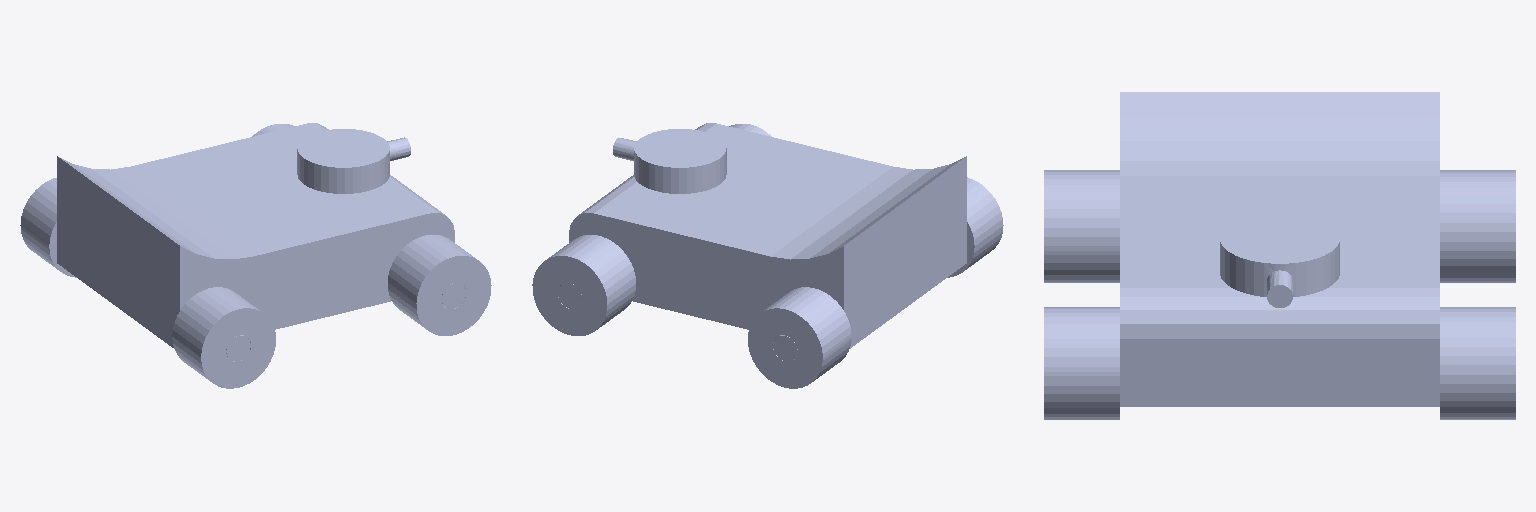
robot.urdf — twowheel:
<?xml version="1.0" encoding="utf-8"?>
<!-- This URDF was automatically created by SolidWorks to URDF Exporter! Originally created by [author] ([email redacted]) 
     Commit Version: 1.5.1-0-g916b5db  Build Version: 1.5.7152.31018
     For more information, please see http://wiki.ros.org/sw_urdf_exporter -->
<robot
  name="twowheel">
  <link
    name="base_link">
    <inertial>
      <origin
        xyz="-0.00189704808770979 -2.77555756156289E-17 0.000243241596412187"
        rpy="0 0 0" />
      <mass
        value="029241.3148419216" />
      <inertia
        ixx="0000214.467025690103"
        ixy="3893746.50523059E-20"
        ixz="9200795.97527627E-06"
        iyy="0000330.913240446304"
        iyz="-3591856.93194801E-21"
        izz="0000497.502081292989" />
    </inertial>
    <visual>
      <origin
        xyz="0 0 0"
        rpy="0 0 0" />
      <geometry>
        <mesh
          filename="package://twowheel/meshes/base_link.STL" />
      </geometry>
      <material
        name="">
        <color
          rgba="0.792156862745098 0.819607843137255 0.933333333333333 1" />
      </material>
    </visual>
    <collision>
      <origin
        xyz="0 0 0"
        rpy="0 0 0" />
      <geometry>
        <mesh
          filename="package://twowheel/meshes/base_link.STL" />
      </geometry>
    </collision>
  </link>
  <link
    name="lwheel_front_link">
    <inertial>
      <origin
        xyz="2.77555756156289E-17 0 3.46944695195361E-18"
        rpy="0 0 0" />
      <mass
        value="001256.63706143592" />
      <inertia
        ixx="1204277.18387609E-06"
        ixy="9926167.35063632E-24"
        ixz="6900064.94304649E-23"
        iyy="1570796.3267949E-06"
        iyz="-7940933.88050907E-23"
        izz="1204277.18387609E-06" />
    </inertial>
    <visual>
      <origin
        xyz="0 0 0"
        rpy="0 0 0" />
      <geometry>
        <mesh
          filename="package://twowheel/meshes/lwheel_front_link.STL" />
      </geometry>
      <material
        name="">
        <color
          rgba="0.792156862745098 0.819607843137255 0.933333333333333 1" />
      </material>
    </visual>
    <collision>
      <origin
        xyz="0 0 0"
        rpy="0 0 0" />
      <geometry>
        <mesh
          filename="package://twowheel/meshes/lwheel_front_link.STL" />
      </geometry>
    </collision>
  </link>
  <joint
    name="lwheel_front_joint"
    type="continuous">
    <origin
      xyz="0.043 0.0525 -0.008"
      rpy="0 0 0" />
    <parent
      link="base_link" />
    <child
      link="lwheel_front_link" />
    <axis
      xyz="0 1 0" />
    <dynamics
      damping="0.7" />
  </joint>
  <link
    name="rwheel_front_link">
    <inertial>
      <origin
        xyz="0 1.38777878078145E-17 0"
        rpy="0 0 0" />
      <mass
        value="001256.63706143592" />
      <inertia
        ixx="1204277.18387609E-06"
        ixy="2600255.43384173E-23"
        ixz="6486043.81353428E-23"
        iyy="1570796.3267949E-06"
        iyz="1543315.65336478E-23"
        izz="1204277.18387609E-06" />
    </inertial>
    <visual>
      <origin
        xyz="0 0 0"
        rpy="0 0 0" />
      <geometry>
        <mesh
          filename="package://twowheel/meshes/rwheel_front_link.STL" />
      </geometry>
      <material
        name="">
        <color
          rgba="0.792156862745098 0.819607843137255 0.933333333333333 1" />
      </material>
    </visual>
    <collision>
      <origin
        xyz="0 0 0"
        rpy="0 0 0" />
      <geometry>
        <mesh
          filename="package://twowheel/meshes/rwheel_front_link.STL" />
      </geometry>
    </collision>
  </link>
  <joint
    name="rwheel_front_joint"
    type="continuous">
    <origin
      xyz="0.043 -0.0525 -0.008"
      rpy="0 0 0" />
    <parent
      link="base_link" />
    <child
      link="rwheel_front_link" />
    <axis
      xyz="0 1 0" />
    <dynamics
      damping="0.7" />
  </joint>
  <link
    name="lwheel_back_link">
    <inertial>
      <origin
        xyz="6.93889390390723E-18 0 -1.73472347597681E-18"
        rpy="0 0 0" />
      <mass
        value="001256.63706143592" />
      <inertia
        ixx="1204277.18387609E-06"
        ixy="-3529303.94689291E-23"
        ixz="1499759.78266181E-40"
        iyy="1570796.3267949E-06"
        iyz="-4553270.7001614E-39"
        izz="1204277.18387609E-06" />
    </inertial>
    <visual>
      <origin
        xyz="0 0 0"
        rpy="0 0 0" />
      <geometry>
        <mesh
          filename="package://twowheel/meshes/lwheel_back_link.STL" />
      </geometry>
      <material
        name="">
        <color
          rgba="0.792156862745098 0.819607843137255 0.933333333333333 1" />
      </material>
    </visual>
    <collision>
      <origin
        xyz="0 0 0"
        rpy="0 0 0" />
      <geometry>
        <mesh
          filename="package://twowheel/meshes/lwheel_back_link.STL" />
      </geometry>
    </collision>
  </link>
  <joint
    name="lwheel_back_joint"
    type="continuous">
    <origin
      xyz="-0.043 0.0525 -0.008"
      rpy="0 0 0" />
    <parent
      link="base_link" />
    <child
      link="lwheel_back_link" />
    <axis
      xyz="0 1 0" />
    <dynamics
      damping="0.7" />
  </joint>
  <link
    name="rwheel_back_link">
    <inertial>
      <origin
        xyz="-1.38777878078145E-17 1.38777878078145E-17 0"
        rpy="0 0 0" />
      <mass
        value="001256.63706143592" />
      <inertia
        ixx="1204277.18387609E-06"
        ixy="1767333.78549152E-39"
        ixz="-1499759.78266188E-40"
        iyy="1570796.3267949E-06"
        iyz="4553270.7001614E-39"
        izz="1204277.18387609E-06" />
    </inertial>
    <visual>
      <origin
        xyz="0 0 0"
        rpy="0 0 0" />
      <geometry>
        <mesh
          filename="package://twowheel/meshes/rwheel_back_link.STL" />
      </geometry>
      <material
        name="">
        <color
          rgba="0.792156862745098 0.819607843137255 0.933333333333333 1" />
      </material>
    </visual>
    <collision>
      <origin
        xyz="0 0 0"
        rpy="0 0 0" />
      <geometry>
        <mesh
          filename="package://twowheel/meshes/rwheel_back_link.STL" />
      </geometry>
    </collision>
  </link>
  <joint
    name="rwheel_back_joint"
    type="continuous">
    <origin
      xyz="-0.043 -0.0525 -0.008"
      rpy="0 0 0" />
    <parent
      link="base_link" />
    <child
      link="rwheel_back_link" />
    <axis
      xyz="0 1 0" />
    <dynamics
      damping="0.7" />
  </joint>
  <link
    name="camera_Link">
    <inertial>
      <origin
        xyz="0.000737693445204357 3.24407345431155E-09 -0.00116644766754696"
        rpy="0 0 0" />
      <mass
        value="000962.102997648522" />
      <inertia
        ixx="6922246.68983282E-07"
        ixy="-3504703.43196234E-13"
        ixz="-5438839.57292803E-09"
        iyy="8334672.43629266E-07"
        iyz="-1150783.32662436E-14"
        izz="1202980.56447629E-06" />
    </inertial>
    <visual>
      <origin
        xyz="0 0 0"
        rpy="0 0 0" />
      <geometry>
        <mesh
          filename="package://twowheel/meshes/camera_Link.STL" />
      </geometry>
      <material
        name="">
        <color
          rgba="0.792156862745098 0.819607843137255 0.933333333333333 1" />
      </material>
    </visual>
    <collision>
      <origin
        xyz="0 0 0"
        rpy="0 0 0" />
      <geometry>
        <mesh
          filename="package://twowheel/meshes/camera_Link.STL" />
      </geometry>
    </collision>
  </link>
  <joint
    name="camera_joint"
    type="fixed">
    <origin
      xyz="0.0349999999999999 0 0.02"
      rpy="0 0 0" />
    <parent
      link="base_link" />
    <child
      link="camera_Link" />
    <axis
      xyz="0 0 0" />
  </joint>

  <gazebo
     reference="base_link">
    <mu1>100</mu1>
    <mu2>100</mu2>
    <material>Gazebo/Orange</material>
  </gazebo>
  <gazebo
     reference="lwheel_front_link">
    <mu1>100</mu1>
    <mu2>100</mu2>
    <material>Gazebo/Black</material>
  </gazebo>
  <gazebo
     reference="rwheel_front_link">
    <mu1>100</mu1>
    <mu2>100</mu2>
    <material>Gazebo/Black</material>
  </gazebo>
  <gazebo
     reference="lwheel_back_link">
    <mu1>100</mu1>
    <mu2>100</mu2>
    <material>Gazebo/Black</material>
  </gazebo>
  <gazebo
     reference="rwheel_back_link">
    <mu1>100</mu1>
    <mu2>100</mu2>
    <material>Gazebo/Black</material>
  </gazebo>

  <gazebo
     reference="camera_Link">
    <material>Gazebo/Black</material>
    <sensor type="camera" name="camera">
      <update_rate>30.0</update_rate>
      <camera name="head">
	<pose>0 0 1 0 0.785 0</pose>
        <horizontal_fov>0.95993108859</horizontal_fov><!--80*PI/180 0.95993108859 1.3962634-->
        <image>
          <width>320</width>
          <height>240</height>
          <format>R8G8B8</format>
        </image>
        <clip>
          <near>0.02</near>
          <far>300</far>
        </clip>
        <noise>
          <type>gaussian</type>
          <mean>0.0</mean>
          <stddev>0.007</stddev>
        </noise>
      </camera>
      <plugin name="camera_controller" filename="libgazebo_ros_camera.so">
	<robotNamespace>/twowheel</robotNamespace>
        <alwaysOn>true</alwaysOn>
        <updateRate>0.0</updateRate>
        <cameraName>/camera</cameraName>
        <imageTopicName>image_raw</imageTopicName>
        <cameraInfoTopicName>camera_info</cameraInfoTopicName>
        <frameName>camera_Link</frameName>
        <hackBaseline>0.07</hackBaseline>
        <distortionK1>0.0</distortionK1>
        <distortionK2>0.0</distortionK2>
        <distortionK3>0.0</distortionK3>
        <distortionT1>0.0</distortionT1>
        <distortionT2>0.0</distortionT2>
      </plugin>
    </sensor>
  </gazebo>

  <gazebo>
    <plugin name="gazebo_ros_control" filename="libgazebo_ros_control.so">
      <robotNamespace>/twowheel</robotNamespace>
      <robotSimType>gazebo_ros_control/DefaultRobotHWSim</robotSimType>
      <legacyModeNS>true</legacyModeNS>
    </plugin>
  </gazebo>

  <transmission name="tran1">
    <type>transmission_interface/SimpleTransmission</type>
    <joint name="lwheel_front_joint">
      <hardwareInterface>hardware_interface/EffortJointInterface</hardwareInterface>
    </joint>
    <actuator name="motor1">
      <hardwareInterface>hardware_interface/EffortJointInterface</hardwareInterface>
      <mechanicalReduction>1</mechanicalReduction>
    </actuator>
  </transmission>

  <transmission name="tran2">
    <type>transmission_interface/SimpleTransmission</type>
    <joint name="rwheel_front_joint">
      <hardwareInterface>hardware_interface/EffortJointInterface</hardwareInterface>
    </joint>
    <actuator name="motor2">
      <hardwareInterface>hardware_interface/EffortJointInterface</hardwareInterface>
      <mechanicalReduction>1</mechanicalReduction>
    </actuator>
  </transmission>

  <transmission name="tran3">
    <type>transmission_interface/SimpleTransmission</type>
    <joint name="lwheel_back_joint">
      <hardwareInterface>hardware_interface/EffortJointInterface</hardwareInterface>
    </joint>
    <actuator name="motor3">
      <hardwareInterface>hardware_interface/EffortJointInterface</hardwareInterface>
      <mechanicalReduction>1</mechanicalReduction>
    </actuator>
  </transmission>

  <transmission name="tran4">
    <type>transmission_interface/SimpleTransmission</type>
    <joint name="rwheel_back_joint">
      <hardwareInterface>hardware_interface/EffortJointInterface</hardwareInterface>
    </joint>
    <actuator name="motor4">
      <hardwareInterface>hardware_interface/EffortJointInterface</hardwareInterface>
      <mechanicalReduction>1</mechanicalReduction>
    </actuator>
  </transmission>

</robot>

--- Render facts (derived) ---
3 views of the same robot in one strip: view 1: azimuth 30°, elevation 25°; view 2: azimuth 150°, elevation 25°; view 3: azimuth 270°, elevation 25° (orthographic).
Model twowheel with 6 links and 5 joints (4 continuous, 1 fixed), rooted at base_link, posed all joints at 0.
Visible links, largest first — view 1: base_link, rwheel_front_link, rwheel_back_link, camera_Link, lwheel_back_link; view 2: base_link, lwheel_front_link, lwheel_back_link, camera_Link, rwheel_back_link; view 3: base_link, camera_Link, lwheel_front_link, rwheel_front_link, lwheel_back_link, rwheel_back_link.
Boxes of the visible links, <box> form: base_link: <box>57,123,465,361</box>; rwheel_front_link: <box>388,235,491,335</box>; rwheel_back_link: <box>172,287,275,388</box>; camera_Link: <box>297,129,410,193</box>; lwheel_back_link: <box>20,178,76,277</box>; base_link: <box>558,123,966,361</box>; lwheel_front_link: <box>532,235,635,335</box>; lwheel_back_link: <box>748,287,851,388</box>; camera_Link: <box>613,129,726,193</box>; rwheel_back_link: <box>948,177,1003,277</box>; base_link: <box>1120,92,1439,406</box>; camera_Link: <box>1220,213,1339,307</box>; lwheel_front_link: <box>1440,307,1515,419</box>; rwheel_front_link: <box>1044,307,1119,419</box>; lwheel_back_link: <box>1440,170,1515,282</box>; rwheel_back_link: <box>1044,170,1119,282</box>.
Size in the robot's own frame: 0.118 by 0.125 by 0.049 metres.
Meshes: 6 distinct files referenced, 6 mesh visuals loaded (6 binary STL).
